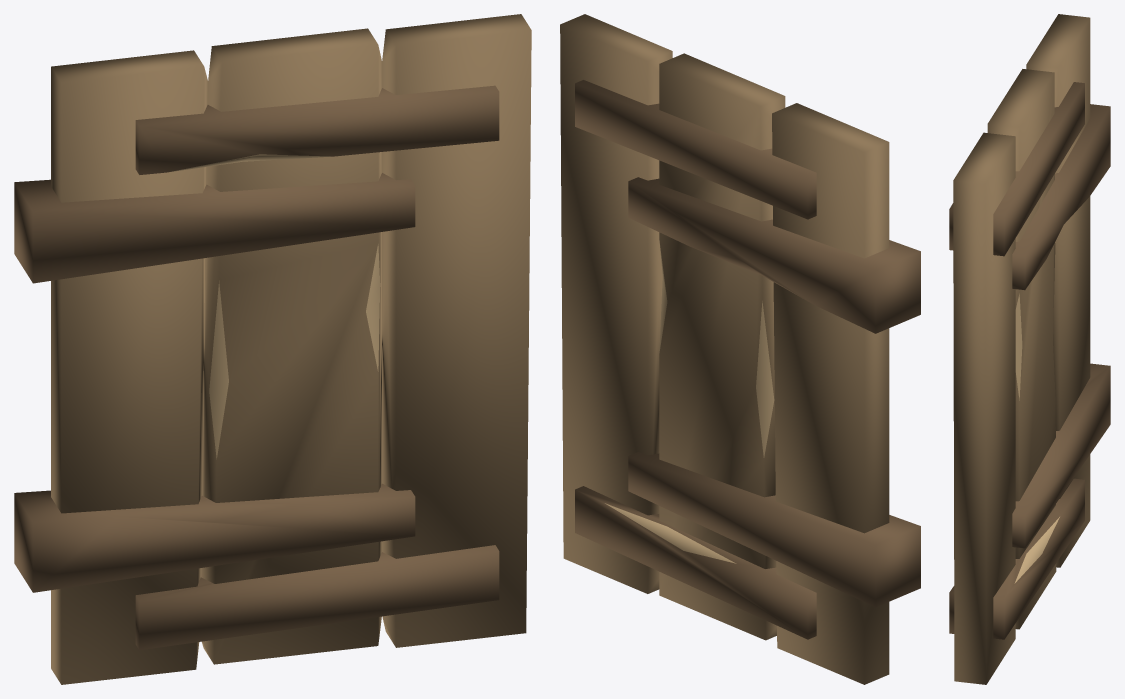
File: rpgpp_ag_window_01_shutter_r.fbx
3 views of the same model, side by side, from view 1: azimuth 30°, elevation 25°; view 2: azimuth 150°, elevation 25°; view 3: azimuth 270°, elevation 25° (orthographic). The views are drawn at different scales.
Visible parts, largest first — view 1: rpgpp_ag_window_01_shutter_r; view 2: rpgpp_ag_window_01_shutter_r; view 3: rpgpp_ag_window_01_shutter_r.
Part boxes in pixels (x1,y1,x2,y2): rpgpp_ag_window_01_shutter_r: [14, 14, 531, 684]; rpgpp_ag_window_01_shutter_r: [560, 14, 920, 684]; rpgpp_ag_window_01_shutter_r: [949, 14, 1110, 684].
Bounding box in the file's own units: 0.7814 × 1.01 × 0.2917.
